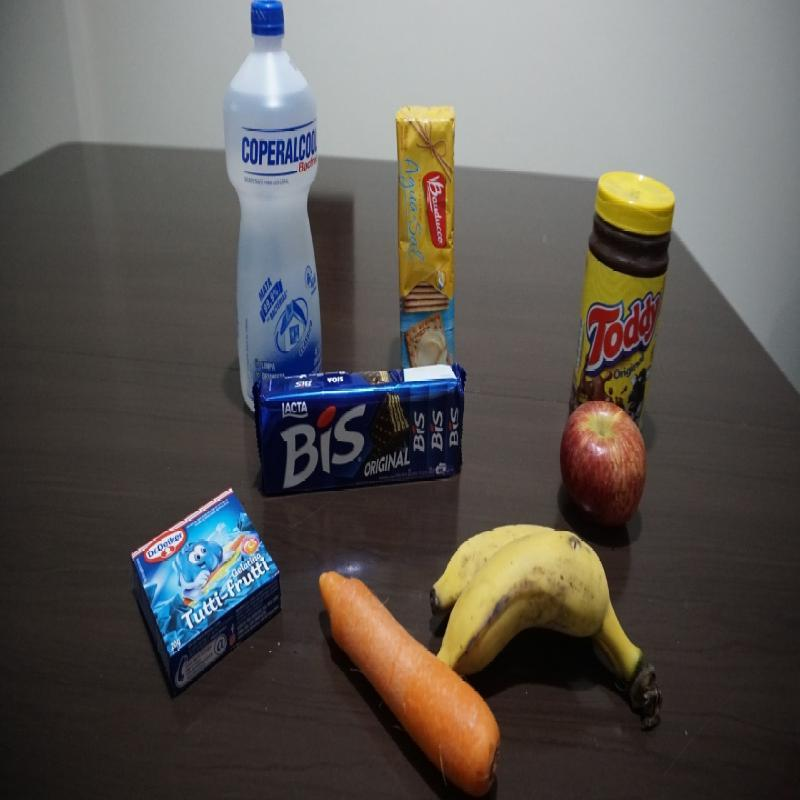Alcohol Bottle: (229, 2, 326, 366)
Apple: (557, 402, 654, 516)
Banana: (441, 526, 682, 715)
Carrot: (316, 567, 440, 772)
Chocolate Powder: (572, 170, 674, 396)
Cracker: (395, 105, 456, 360)
Gelatine: (132, 488, 282, 697)
